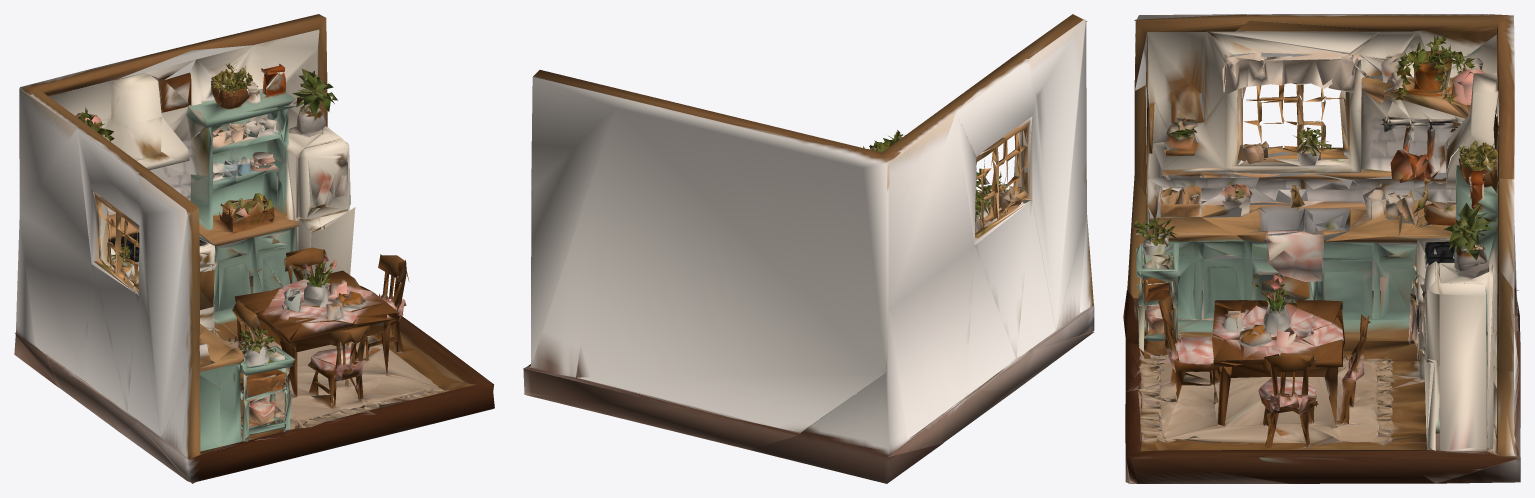
The model's file is Worldbf34a2147b.glb.
3 renders of one model, left to right at view 1: azimuth 30°, elevation 25°; view 2: azimuth 150°, elevation 25°; view 3: azimuth 270°, elevation 25°, orthographic. The views are drawn at different scales.
Parts seen in each view (by area): view 1: mesh_node; view 2: mesh_node; view 3: mesh_node.
Part boxes in pixels (<box>): mesh_node: <box>14,14,494,483</box>; mesh_node: <box>523,14,1094,483</box>; mesh_node: <box>1123,14,1520,483</box>.
Bounding box in the file's own units: 3.6 × 3.03 × 3.58.
1 material, 1 textured.
